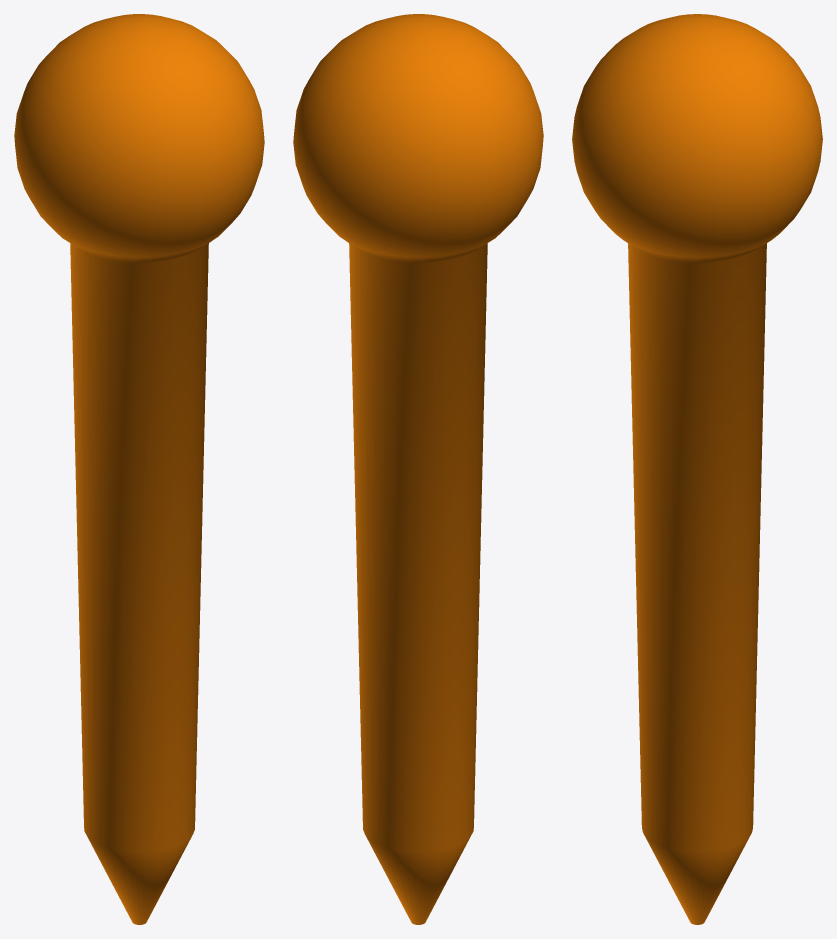
The model's file is copper rod.fbx.
3 views of the same model, side by side, from view 1: azimuth 30°, elevation 25°; view 2: azimuth 150°, elevation 25°; view 3: azimuth 270°, elevation 25° (orthographic).
Visible parts, largest first — view 1: copper rod; view 2: copper rod; view 3: copper rod.
Part boxes in pixels (x1=…): copper rod: x1=14, y1=14, x2=264, y2=924; copper rod: x1=293, y1=14, x2=543, y2=924; copper rod: x1=572, y1=14, x2=822, y2=924.
Bounding box in the file's own units: 200 × 788 × 200.
